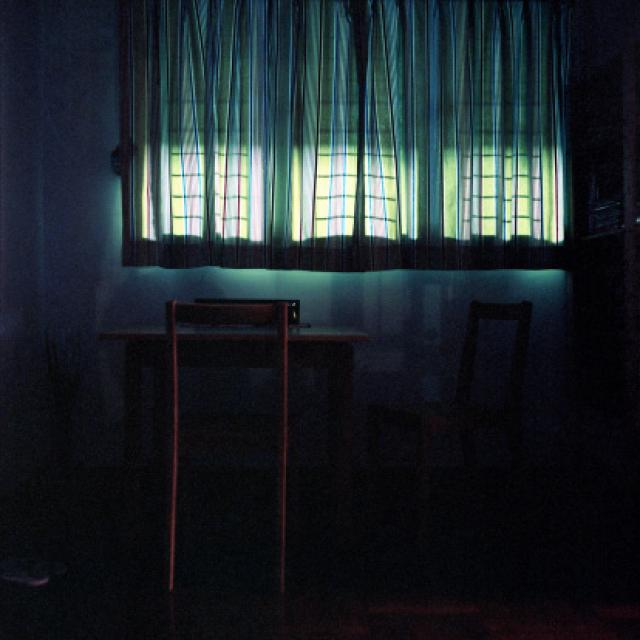Table: (92, 288, 386, 543)
chair: (159, 285, 308, 616), (411, 272, 561, 550)
